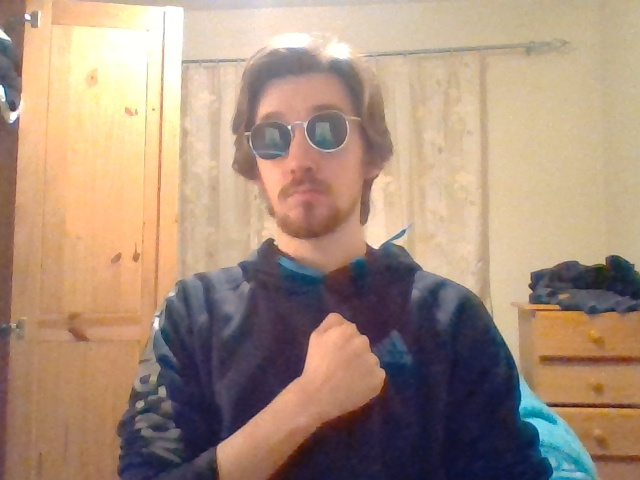my: (306, 312, 386, 412)
